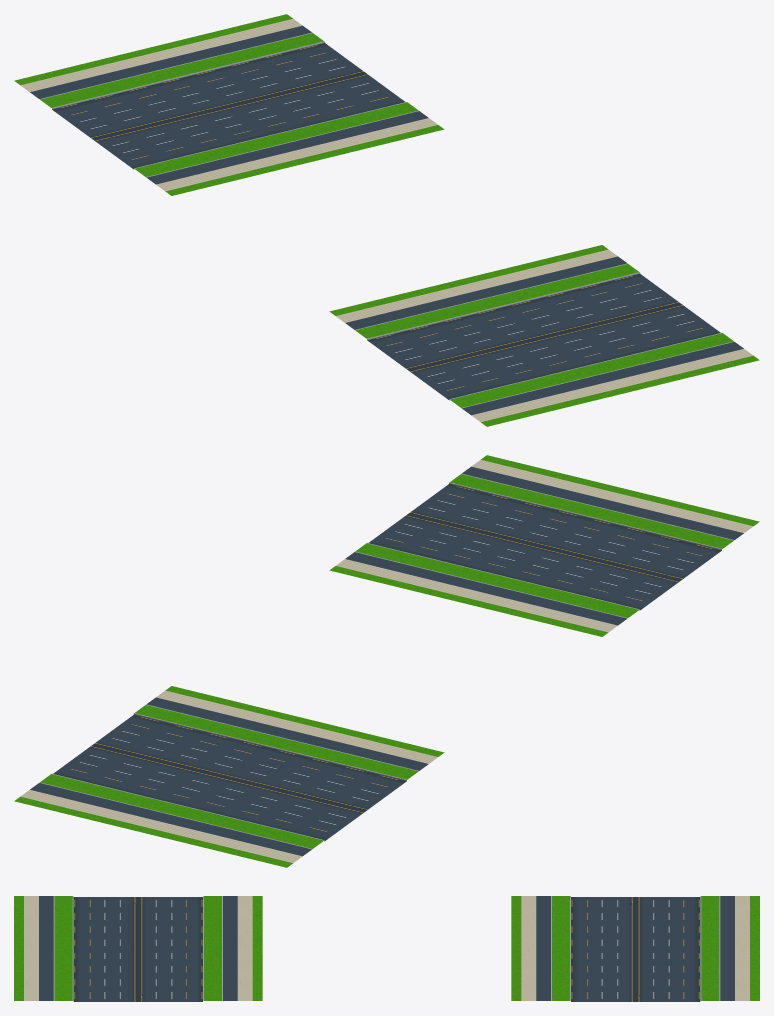
Rendered from FBXcs2.fbx.
The picture shows the model from 3 angles, top to bottom: view 1: azimuth 30°, elevation 25°; view 2: azimuth 150°, elevation 25°; view 3: azimuth 270°, elevation 25°; orthographic projection. The views are drawn at different scales.
Parts seen in each view (by area): view 1: pCube90, pCube89; view 2: pCube89, pCube90; view 3: pCube89, pCube90.
Part boxes in pixels (x1=…): pCube90: x1=329, y1=245, x2=759, y2=426; pCube89: x1=14, y1=14, x2=444, y2=195; pCube89: x1=14, y1=686, x2=444, y2=867; pCube90: x1=329, y1=455, x2=759, y2=636; pCube89: x1=511, y1=896, x2=759, y2=1001; pCube90: x1=14, y1=896, x2=262, y2=1001.
Size of the model in its own units: 50 by 0.2 by 150.
